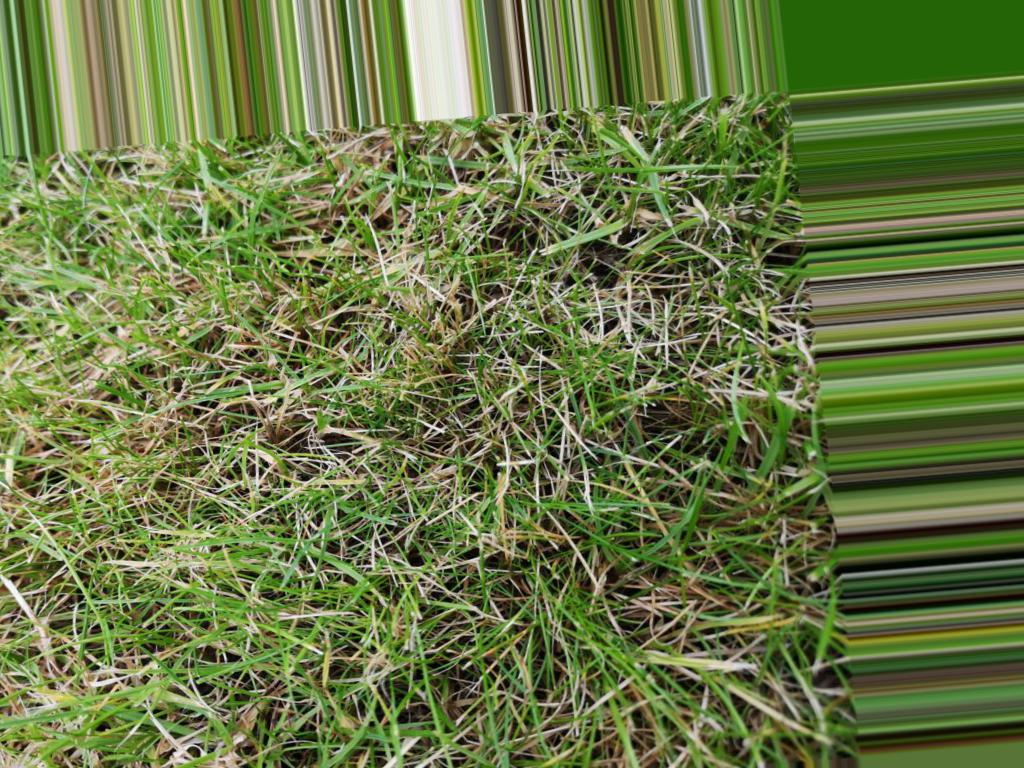patch: (72, 313, 296, 635)
